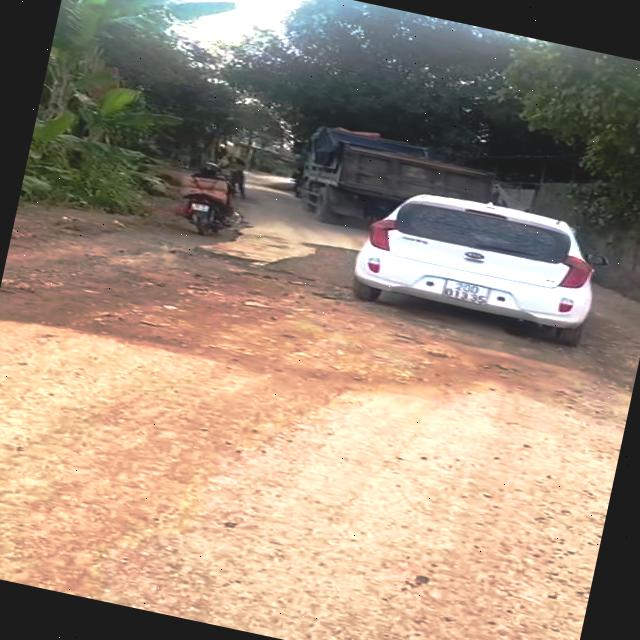pothole: (0, 241, 463, 412), (128, 228, 366, 312), (256, 227, 362, 303), (604, 375, 634, 436)
